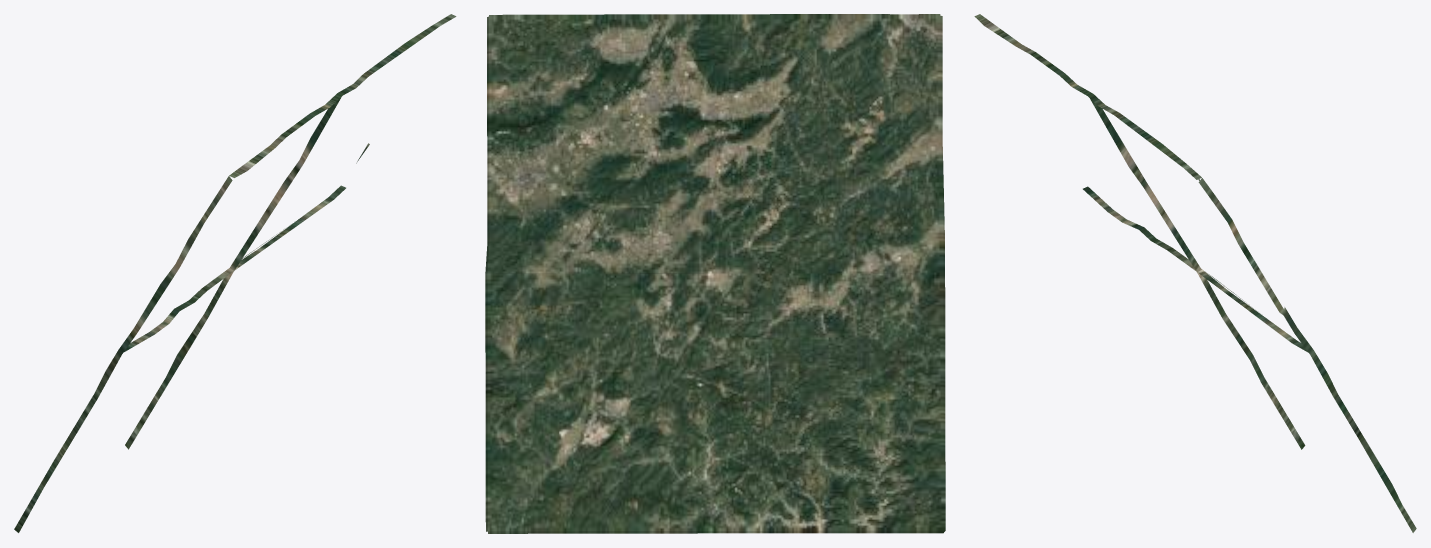
3 views of the same model, side by side, from view 1: azimuth 30°, elevation 25°; view 2: azimuth 150°, elevation 25°; view 3: azimuth 270°, elevation 25° (orthographic).
Bounding box in the file's own units: 159154 × 139013 × 136314.
1 material, 1 textured.
